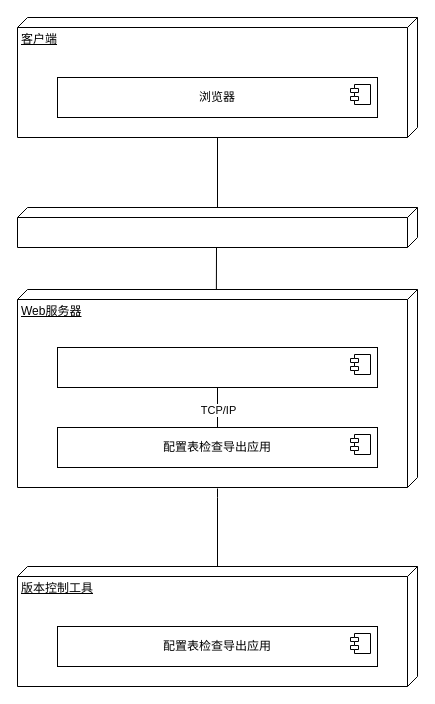
Some shapes in this 435 by 704 pixel diagram are drawn without their labels. Here are the shapes that lost their labels. From the top down, the centre of each, then its label:
At (x=217, y=227): "防火墙".
At (x=217, y=367): "OnlyOfficeWeb表格应用".
